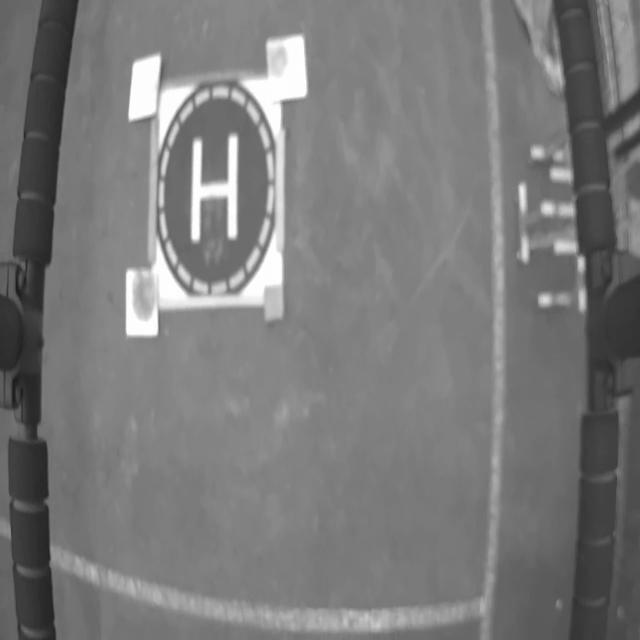Helipad: (190, 132, 238, 244)
